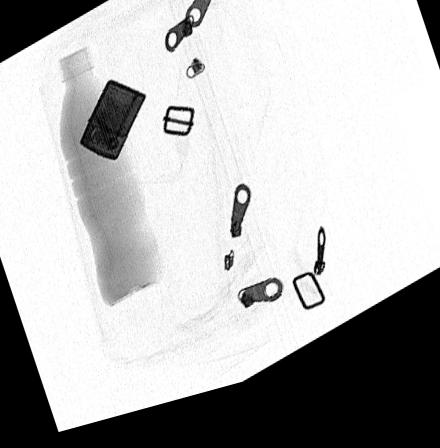Lighter: (78, 83, 147, 166)
